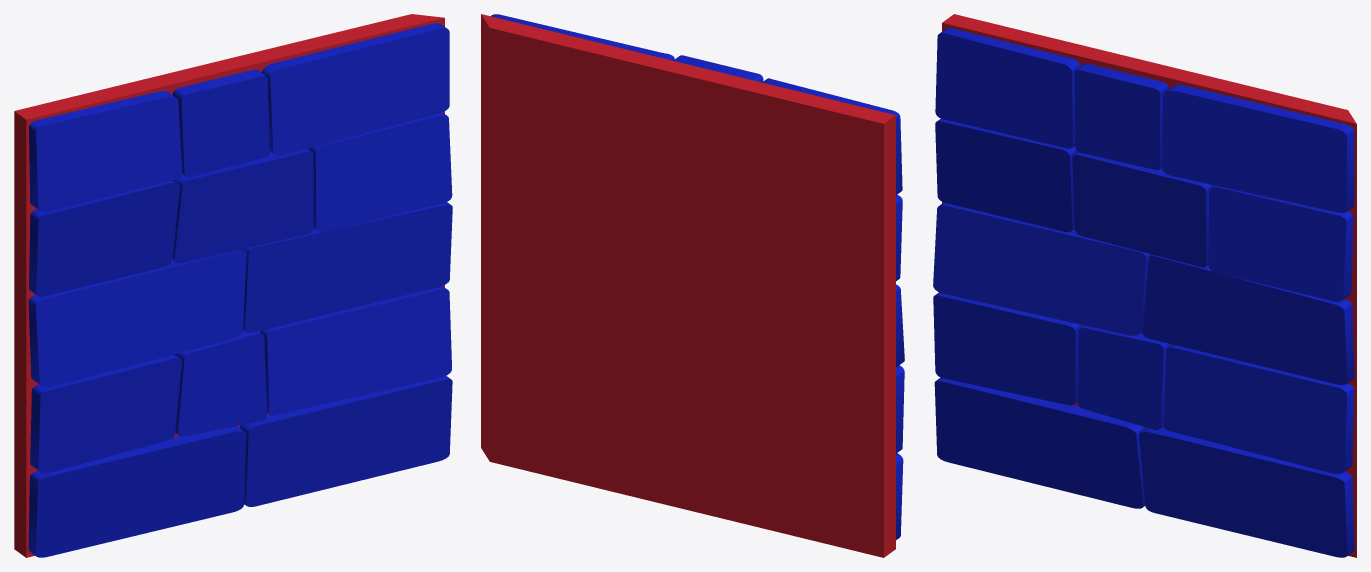
File: Unity HD Render Pipeline (Metallic Standard).fbx
The picture shows the model from 3 angles, left to right: view 1: azimuth 30°, elevation 25°; view 2: azimuth 150°, elevation 25°; view 3: azimuth 330°, elevation 25°; orthographic projection.
Parts seen in each view (by area): view 1: WallCorner (×2); view 2: WallCorner (×2); view 3: WallCorner (×2).
Boxes of the visible parts, <box> form: WallCorner (×2): <box>14,14,452,557</box>; WallCorner (×2): <box>481,14,904,557</box>; WallCorner (×2): <box>933,14,1356,557</box>.
Bounding box in the file's own units: 2 × 2 × 0.2119.
